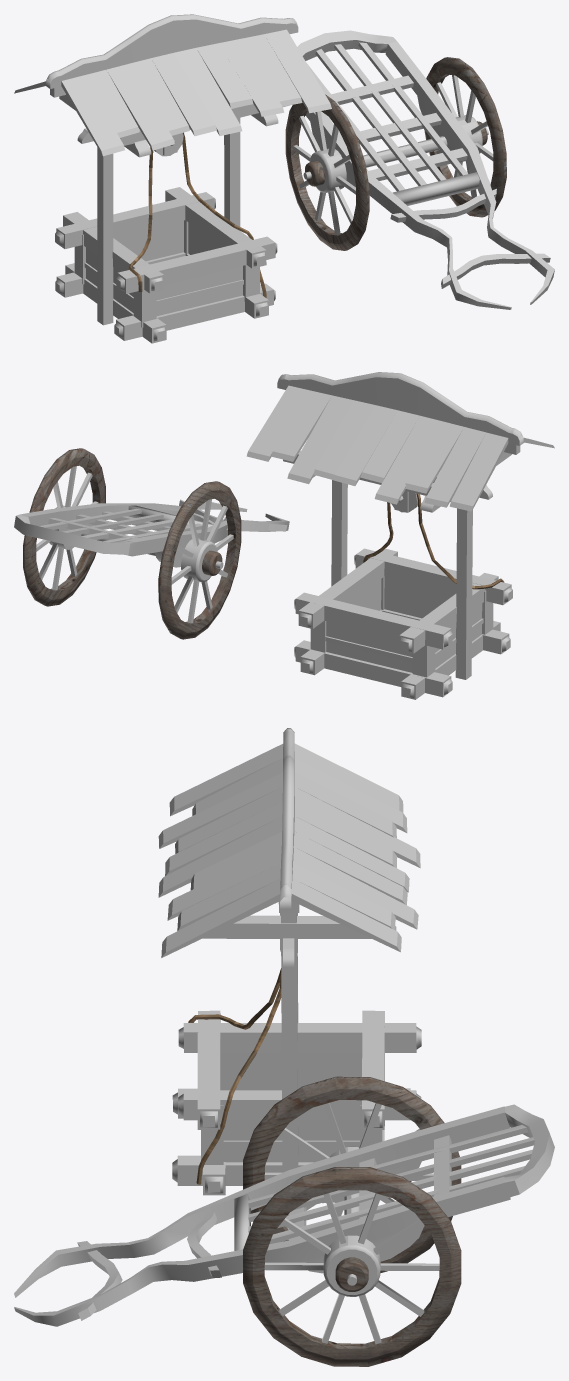
File: Cart and Well (mod).fbx
The picture shows the model from 3 angles, top to bottom: view 1: azimuth 30°, elevation 25°; view 2: azimuth 150°, elevation 25°; view 3: azimuth 270°, elevation 25°; orthographic projection. The views are drawn at different scales.
Visible parts, largest first — view 1: well, cart; view 2: well, cart; view 3: well, cart.
Boxes of the visible parts, x1,y1,x2,y2 form: well: (14, 14, 331, 343); cart: (285, 30, 554, 309); well: (246, 372, 554, 699); cart: (14, 448, 289, 639); well: (158, 728, 421, 1195); cart: (14, 1076, 554, 1366).
Bounding box in the file's own units: 288 × 217 × 173.
